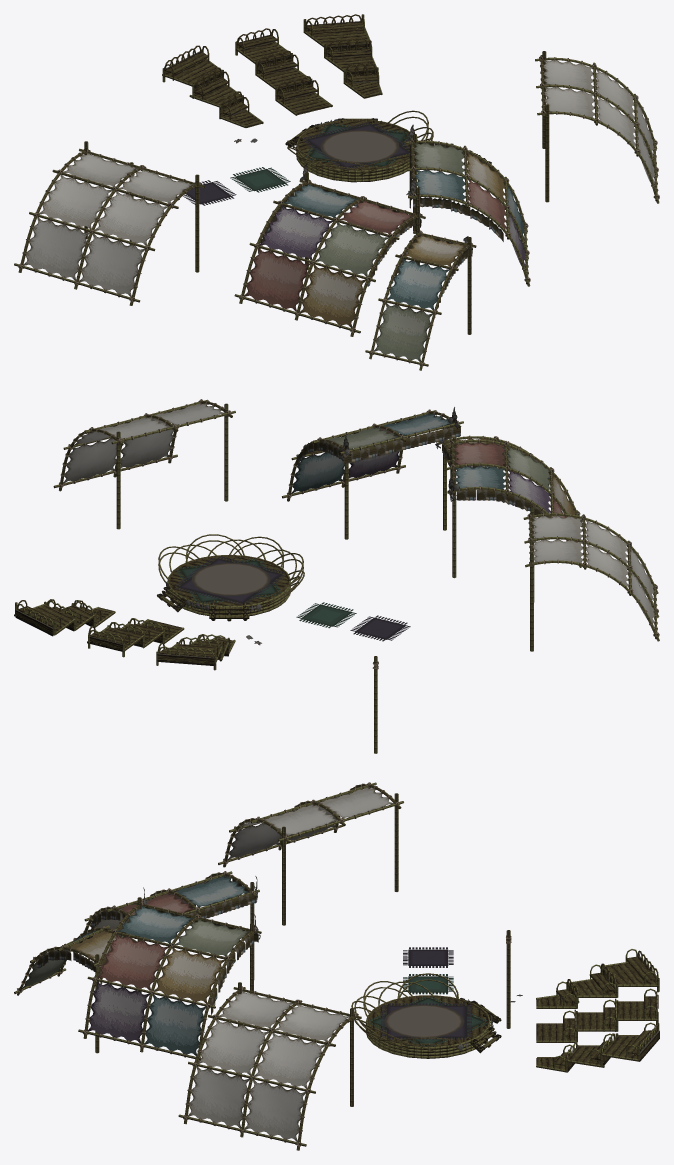
Rendered from EnvObjMD_Stage_C_Base_A.FBX.
3 renders of one model, top to bottom at view 1: azimuth 30°, elevation 25°; view 2: azimuth 150°, elevation 25°; view 3: azimuth 270°, elevation 25°, orthographic.
Parts seen in each view (by area): view 1: EnvObjMD_Stage_C_Cloth_A, EnvObjMD_Stage_C_Cloth_D, EnvObjMD_Stage_C_Stand_A, EnvObjMD_Stage_C_Cloth_B, EnvObjMD_Stage_C_Base_A, EnvObjMD_Stage_C_Base_Cloth_A, EnvObjMD_Stage_C_Base_Cloth_B; view 2: EnvObjMD_Stage_C_Cloth_A, EnvObjMD_Stage_C_Base_A, EnvObjMD_Stage_C_Cloth_B, EnvObjMD_Stage_C_Cloth_D, EnvObjMD_Stage_C_Stand_A, EnvObjMD_Stage_C_Base_Cloth_A, EnvObjMD_Stage_C_Base_Cloth_B; view 3: EnvObjMD_Stage_C_Cloth_A, EnvObjMD_Stage_C_Cloth_B, EnvObjMD_Stage_C_Stand_A, EnvObjMD_Stage_C_Base_A, EnvObjMD_Stage_C_Cloth_D, EnvObjMD_Stage_C_Base_Cloth_B, EnvObjMD_Stage_C_Base_Cloth_A.
Boxes of the visible parts, bbox=[...] form: EnvObjMD_Stage_C_Cloth_A: bbox=[234, 124, 530, 370]; EnvObjMD_Stage_C_Cloth_D: bbox=[14, 141, 204, 305]; EnvObjMD_Stage_C_Stand_A: bbox=[162, 14, 382, 127]; EnvObjMD_Stage_C_Cloth_B: bbox=[535, 51, 659, 203]; EnvObjMD_Stage_C_Base_A: bbox=[285, 110, 433, 182]; EnvObjMD_Stage_C_Base_Cloth_A: bbox=[230, 167, 290, 192]; EnvObjMD_Stage_C_Base_Cloth_B: bbox=[183, 180, 236, 205]; EnvObjMD_Stage_C_Cloth_A: bbox=[282, 407, 582, 578]; EnvObjMD_Stage_C_Base_A: bbox=[157, 534, 304, 621]; EnvObjMD_Stage_C_Cloth_B: bbox=[53, 399, 235, 529]; EnvObjMD_Stage_C_Cloth_D: bbox=[523, 505, 659, 651]; EnvObjMD_Stage_C_Stand_A: bbox=[14, 599, 235, 670]; EnvObjMD_Stage_C_Base_Cloth_A: bbox=[296, 602, 356, 628]; EnvObjMD_Stage_C_Base_Cloth_B: bbox=[350, 615, 410, 641]; EnvObjMD_Stage_C_Cloth_A: bbox=[14, 871, 261, 1063]; EnvObjMD_Stage_C_Cloth_B: bbox=[178, 982, 361, 1150]; EnvObjMD_Stage_C_Stand_A: bbox=[536, 949, 659, 1072]; EnvObjMD_Stage_C_Base_A: bbox=[351, 973, 501, 1058]; EnvObjMD_Stage_C_Cloth_D: bbox=[218, 782, 403, 925]; EnvObjMD_Stage_C_Base_Cloth_B: bbox=[403, 947, 453, 967]; EnvObjMD_Stage_C_Base_Cloth_A: bbox=[403, 974, 453, 994].
Bounding box in the file's own units: 5406 × 1570 × 4807.
